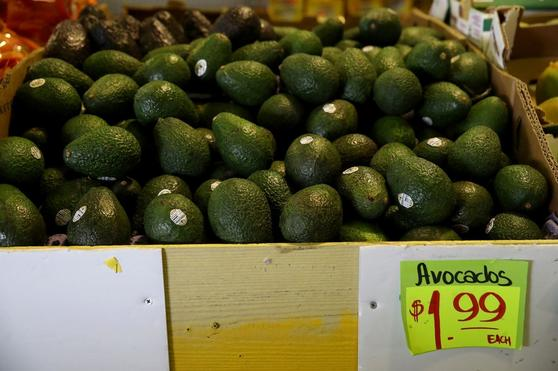avocado: (208, 170, 277, 249), (208, 108, 278, 176), (65, 126, 147, 184), (277, 181, 348, 243), (392, 155, 456, 223), (142, 181, 209, 245), (153, 118, 214, 185), (280, 130, 345, 191), (209, 57, 281, 111), (280, 51, 344, 108), (490, 161, 551, 220), (372, 63, 426, 117), (423, 72, 469, 129)
